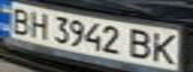2: (100, 22, 127, 56)
3: (48, 14, 72, 45)
4: (81, 20, 103, 53)
9: (66, 17, 87, 48)
B: (124, 27, 157, 61), (3, 5, 33, 35)
H: (24, 9, 51, 40)
K: (148, 30, 181, 65)
